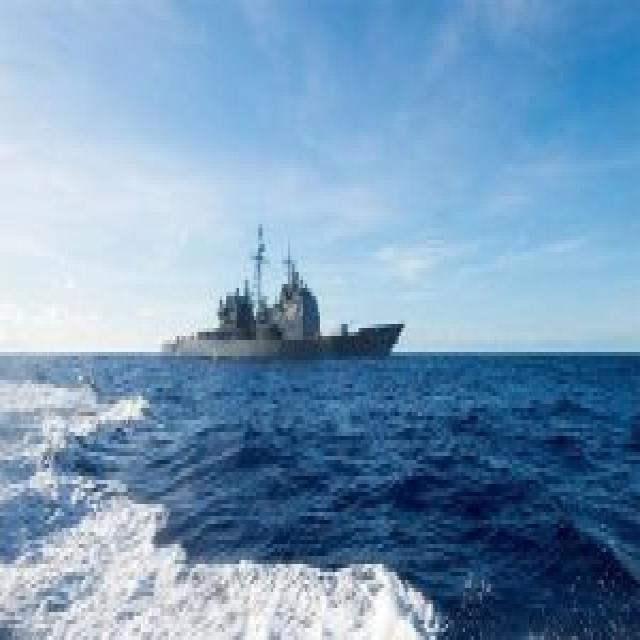navalvessels: (168, 236, 411, 357)
